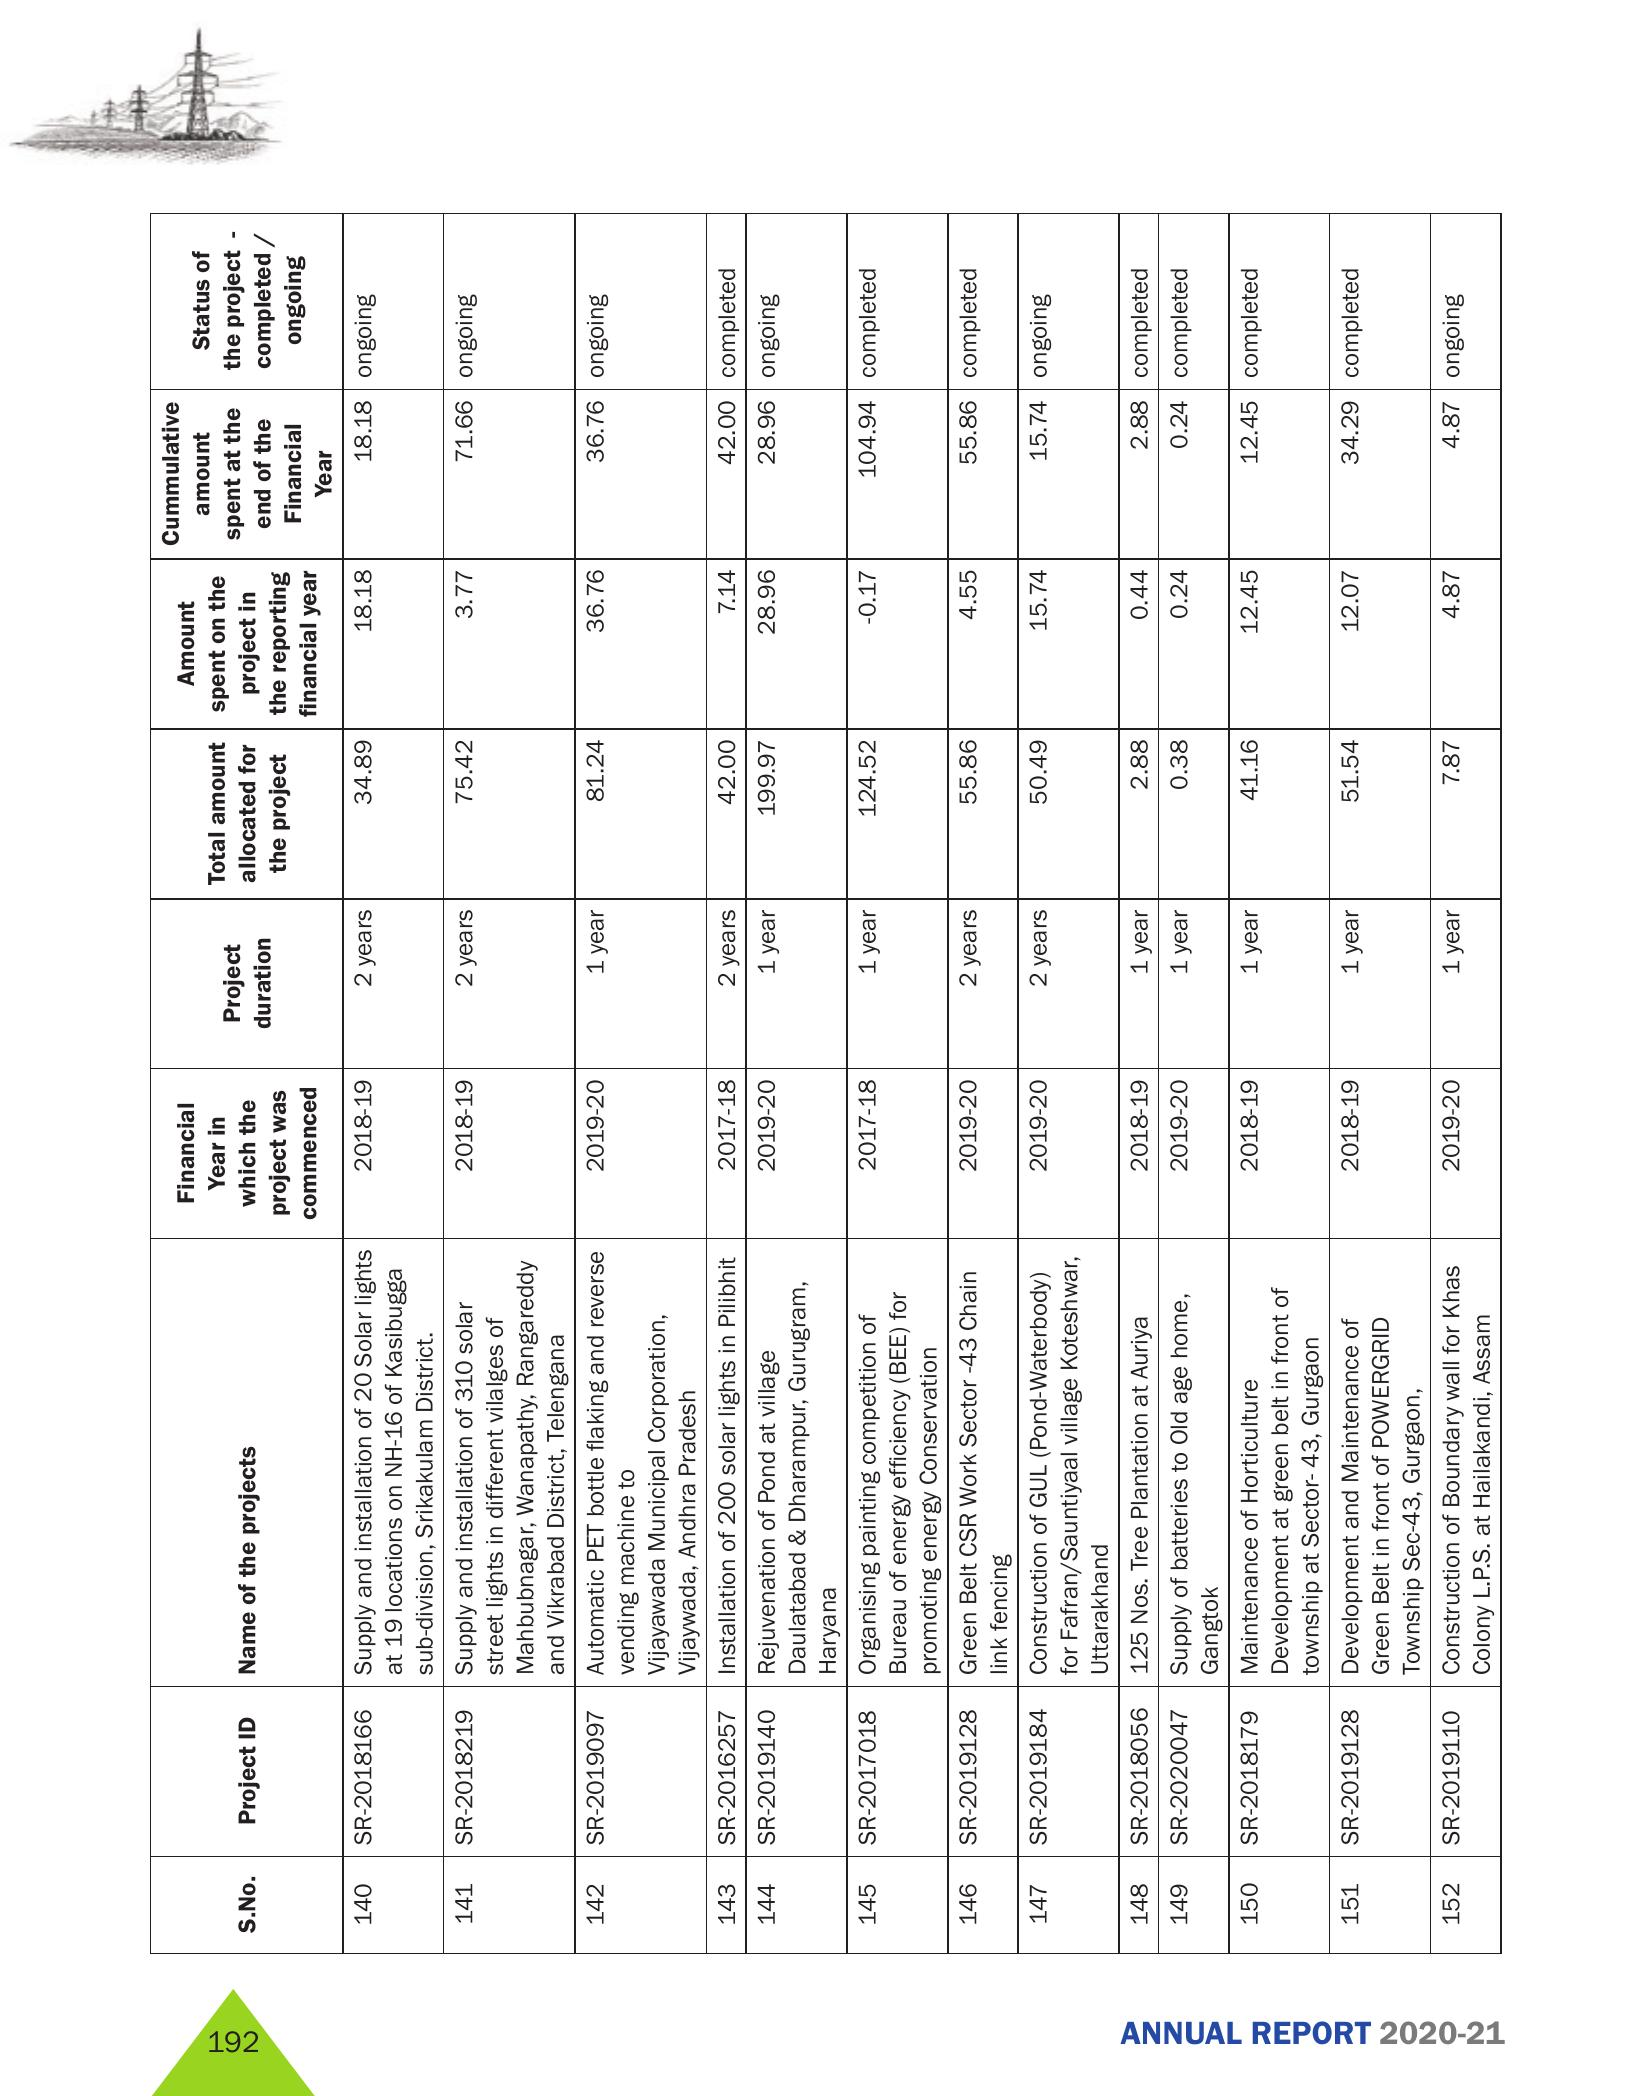Footer: (0, 1965, 1650, 2096)
Header: (0, 0, 1650, 180)
Table: (111, 201, 1533, 1965)
